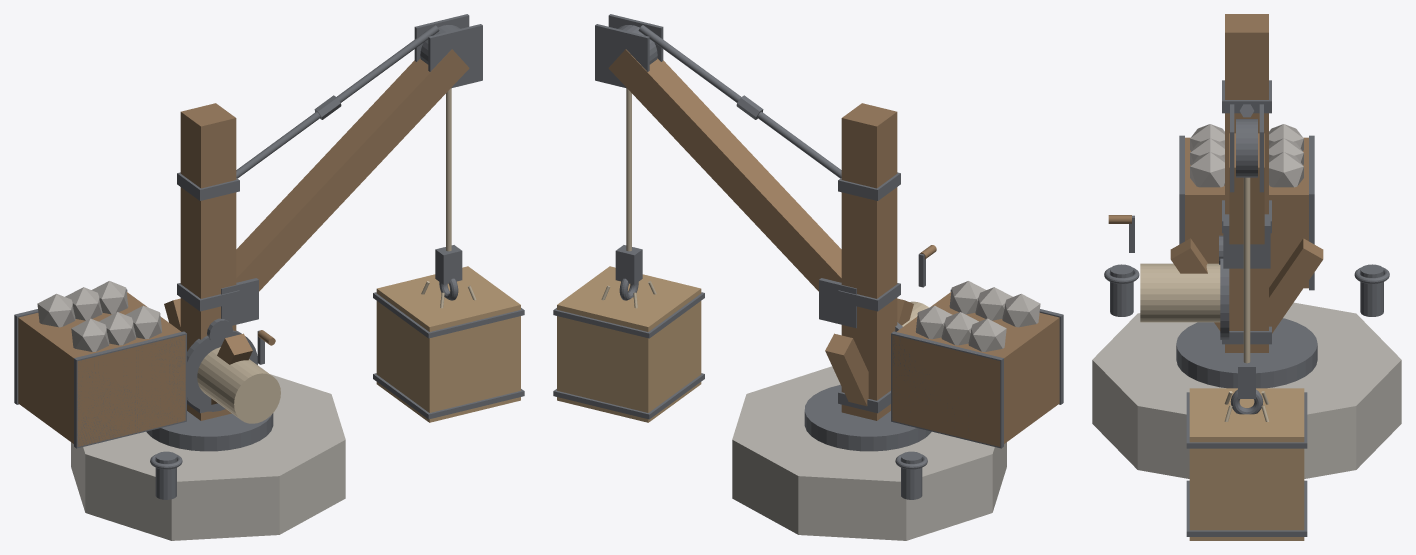
File: quayside_crane.glb
3 views of the same model, side by side, from view 1: azimuth 30°, elevation 25°; view 2: azimuth 150°, elevation 25°; view 3: azimuth 270°, elevation 25° (orthographic). The views are drawn at different scales.
Visible parts, largest first — view 1: Cylinder, Cube.016, Cube.010, Cube.006, Cube, Cylinder.007, Cylinder.003, Cube.008, Cube.011, Cylinder.004, Cylinder.008, Cube.007 (+15 smaller); view 2: Cylinder, Cube.016, Cube.010, Cube.006, Cube, Cylinder.003, Cube.009, Cube.005, Cylinder.004, Cube.007, Cube.012, Cube.017 (+13 smaller); view 3: Cylinder, Cube.016, Cube, Cylinder.003, Cube.010, Cylinder.007, Cube.005, Cube.006, Cube.007, Cylinder.012, Cylinder.006, Cube.018 (+19 smaller).
Boxes of the visible parts, bbox=[...] form: Cylinder: bbox=[71, 374, 345, 540]; Cube.016: bbox=[376, 266, 520, 422]; Cube.010: bbox=[18, 292, 185, 446]; Cube.006: bbox=[236, 49, 469, 291]; Cube: bbox=[180, 103, 236, 420]; Cylinder.007: bbox=[197, 347, 280, 423]; Cylinder.003: bbox=[146, 411, 273, 451]; Cube.008: bbox=[428, 24, 482, 88]; Cube.011: bbox=[74, 331, 186, 448]; Cylinder.004: bbox=[236, 25, 439, 178]; Cylinder.008: bbox=[187, 330, 257, 411]; Cube.007: bbox=[221, 278, 258, 325]; Cylinder: bbox=[732, 366, 1006, 540]; Cube.016: bbox=[557, 266, 701, 422]; Cube.010: bbox=[892, 292, 1059, 446]; Cube.006: bbox=[608, 49, 841, 291]; Cube: bbox=[841, 103, 897, 420]; Cylinder.003: bbox=[804, 385, 931, 451]; Cube.009: bbox=[595, 24, 649, 88]; Cube.005: bbox=[825, 333, 868, 406]; Cylinder.004: bbox=[638, 25, 841, 178]; Cube.007: bbox=[819, 278, 856, 328]; Cube.012: bbox=[891, 331, 1003, 448]; Cube.017: bbox=[553, 373, 704, 419]; Cylinder: bbox=[1092, 302, 1401, 478]; Cube.016: bbox=[1189, 388, 1304, 540]; Cube: bbox=[1225, 14, 1268, 352]; Cylinder.003: bbox=[1176, 318, 1317, 388]; Cube.010: bbox=[1185, 137, 1308, 288]; Cylinder.007: bbox=[1140, 263, 1220, 322]; Cube.005: bbox=[1269, 238, 1323, 333]; Cube.006: bbox=[1229, 133, 1264, 244]; Cube.007: bbox=[1223, 206, 1270, 268]; Cylinder.012: bbox=[1243, 177, 1250, 363]; Cylinder.006: bbox=[1236, 119, 1257, 177]; Cube.018: bbox=[1186, 392, 1307, 448].
Size of the model in its own units: 3.85 by 3.28 by 2.1.
